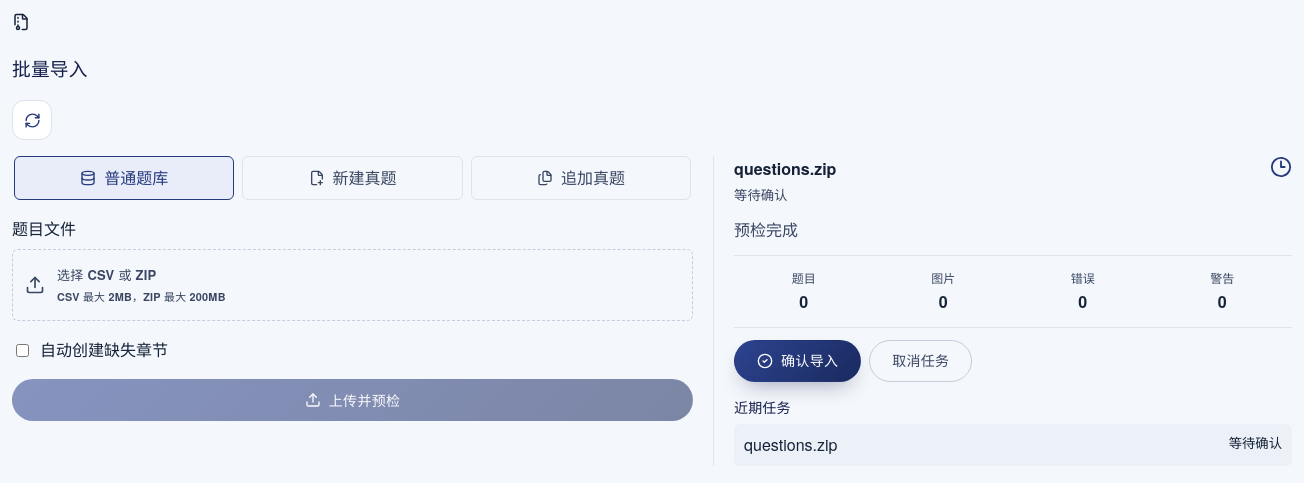
Test: AdminQuizImport › rebuilds polling when a manual refresh observes a resumed task
Step 1. Click the button titled "刷新任务" → [32, 120], box [12,100,52,140]
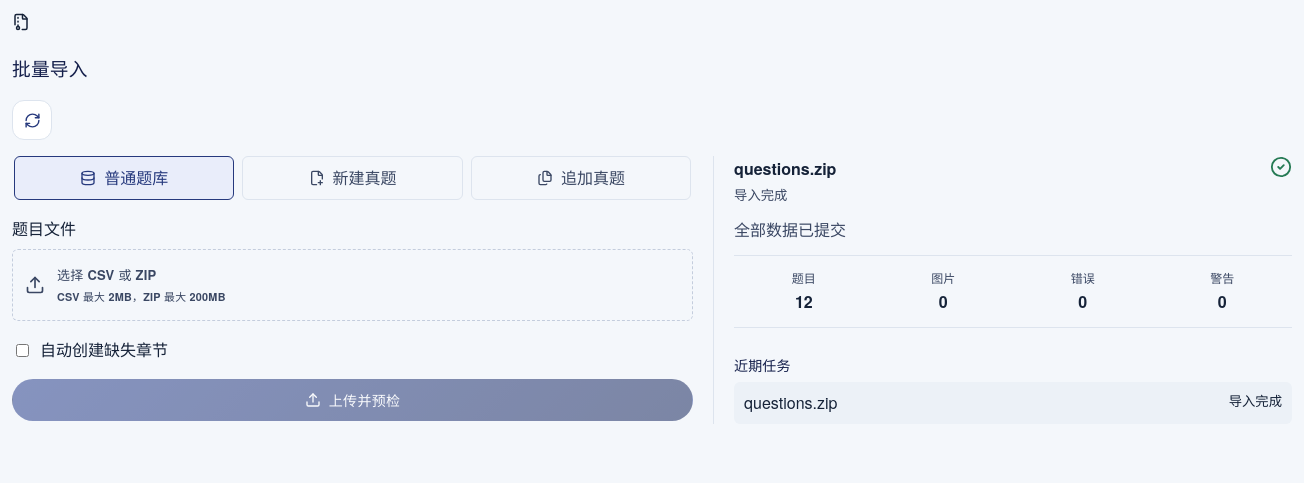
Expected: the text "导入完成" is shown, [734,185,787,204]
